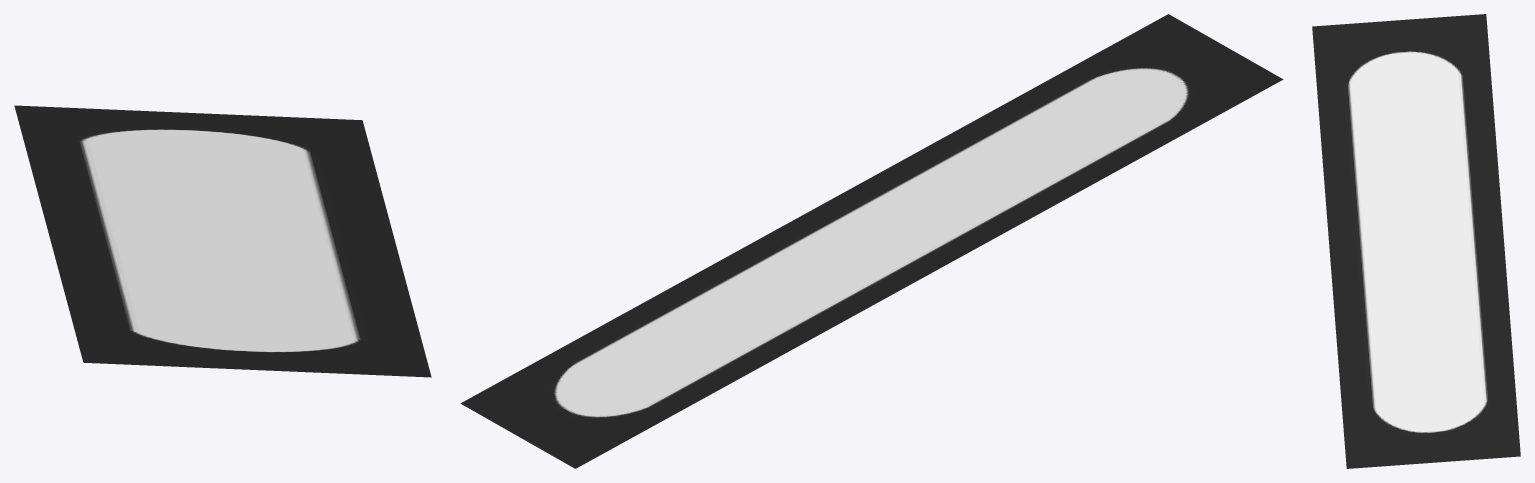
3 views of the same model, side by side, from view 1: azimuth 90°, elevation 25°; view 2: azimuth 210°, elevation 25°; view 3: azimuth 270°, elevation 25° (orthographic). The views are drawn at different scales.
Visible parts, largest first — view 1: Plane; view 2: Plane; view 3: Plane.
Part boxes in pixels (<box>): Plane: <box>14,105,431,377</box>; Plane: <box>460,14,1283,468</box>; Plane: <box>1312,14,1520,468</box>.
Size of the model in its own units: 2.38 by 0.6427 by 0.7286.
Materials: 1 (1 with a texture image).
